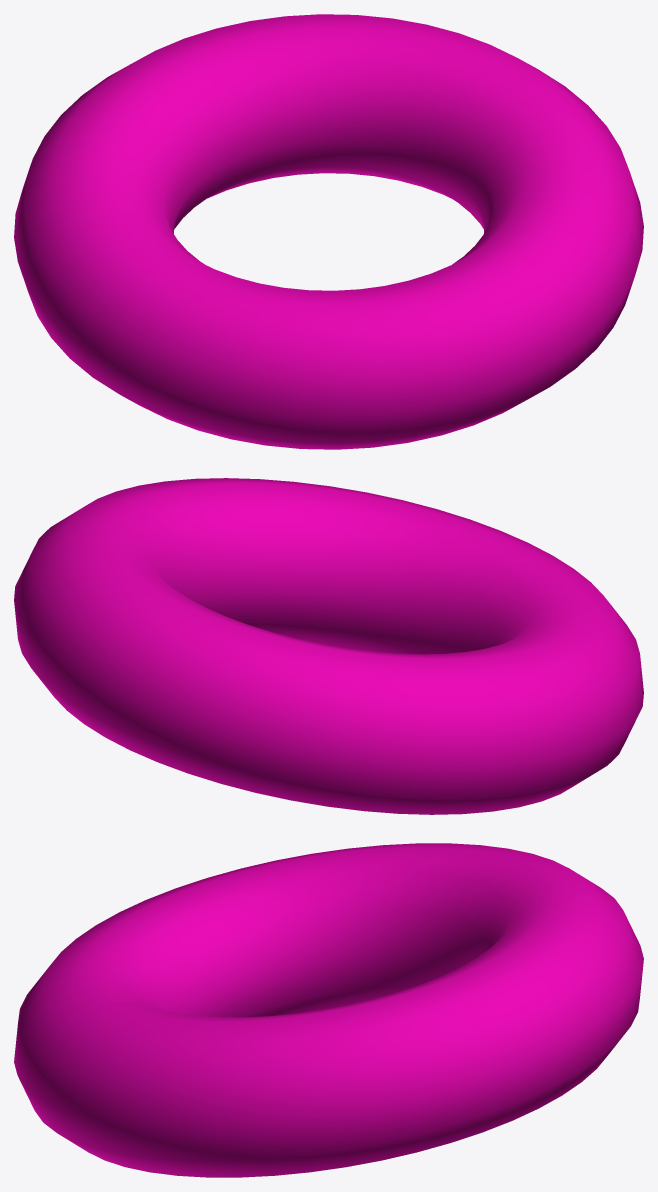
3 renders of one model, top to bottom at view 1: azimuth 30°, elevation 25°; view 2: azimuth 150°, elevation 25°; view 3: azimuth 270°, elevation 25°, orthographic.
Parts seen in each view (by area): view 1: Torus.004; view 2: Torus.004; view 3: Torus.004.
Boxes of the visible parts, box(x1,y1,x2,y2) form: Torus.004: box(14, 14, 643, 449); Torus.004: box(14, 478, 643, 814); Torus.004: box(14, 843, 643, 1177).
Bounding box in the file's own units: 0.5 × 0.1969 × 0.4958.
